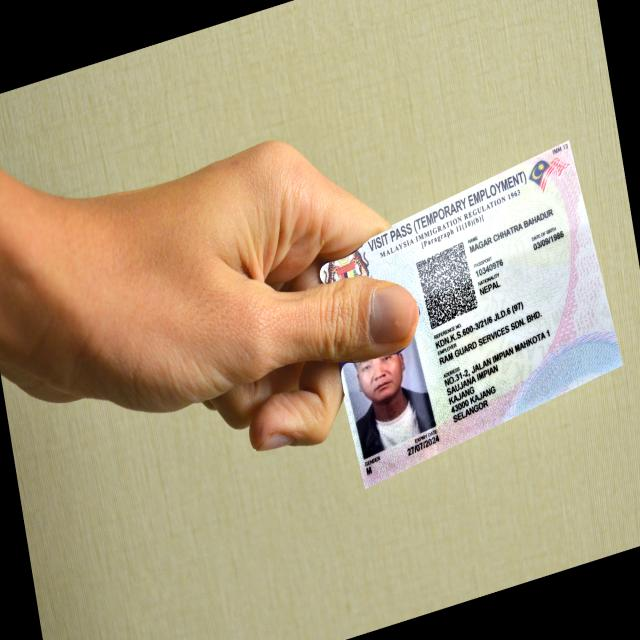ikad-temp: (319, 138, 623, 489)
